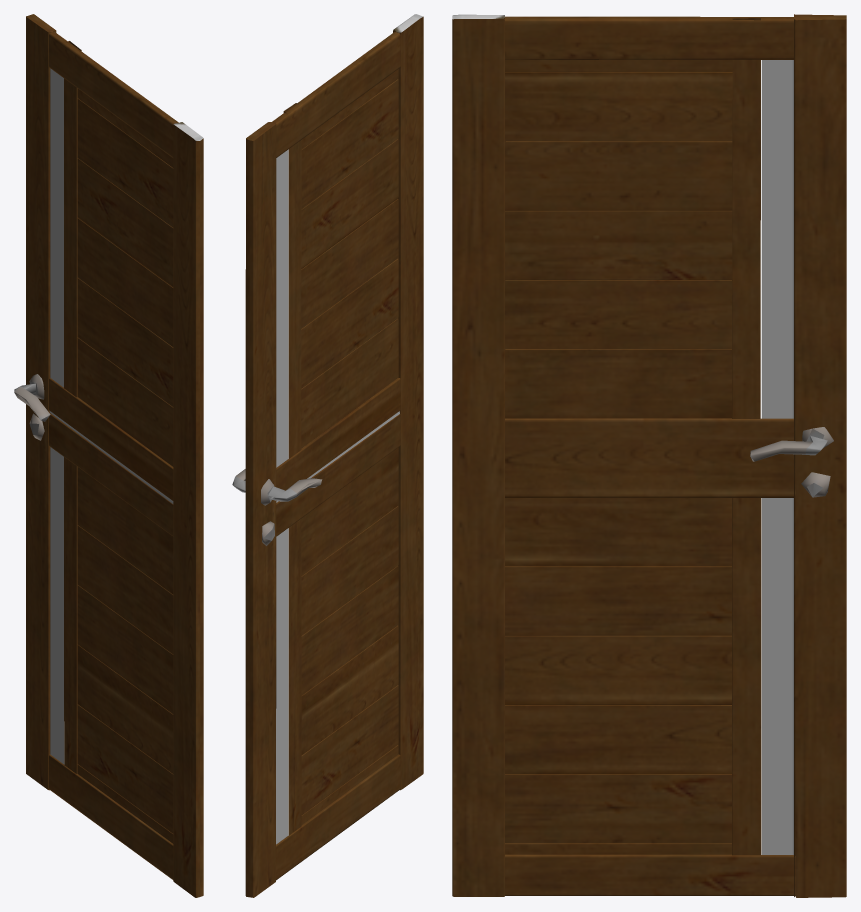
The model's file is SM_Office_wall01ap.fbx.
3 views of the same model, side by side, from view 1: azimuth 30°, elevation 25°; view 2: azimuth 150°, elevation 25°; view 3: azimuth 270°, elevation 25° (orthographic). The views are drawn at different scales.
Visible parts, largest first — view 1: SM_Office_wall01ap_LOD0; view 2: SM_Office_wall01ap_LOD0; view 3: SM_Office_wall01ap_LOD0.
Part boxes in pixels (x1,y1,x2,y2): SM_Office_wall01ap_LOD0: (14,14,203,897); SM_Office_wall01ap_LOD0: (232,14,423,897); SM_Office_wall01ap_LOD0: (452,14,846,897).
Bounding box in the file's own units: 19.74 × 89.71 × 221.
